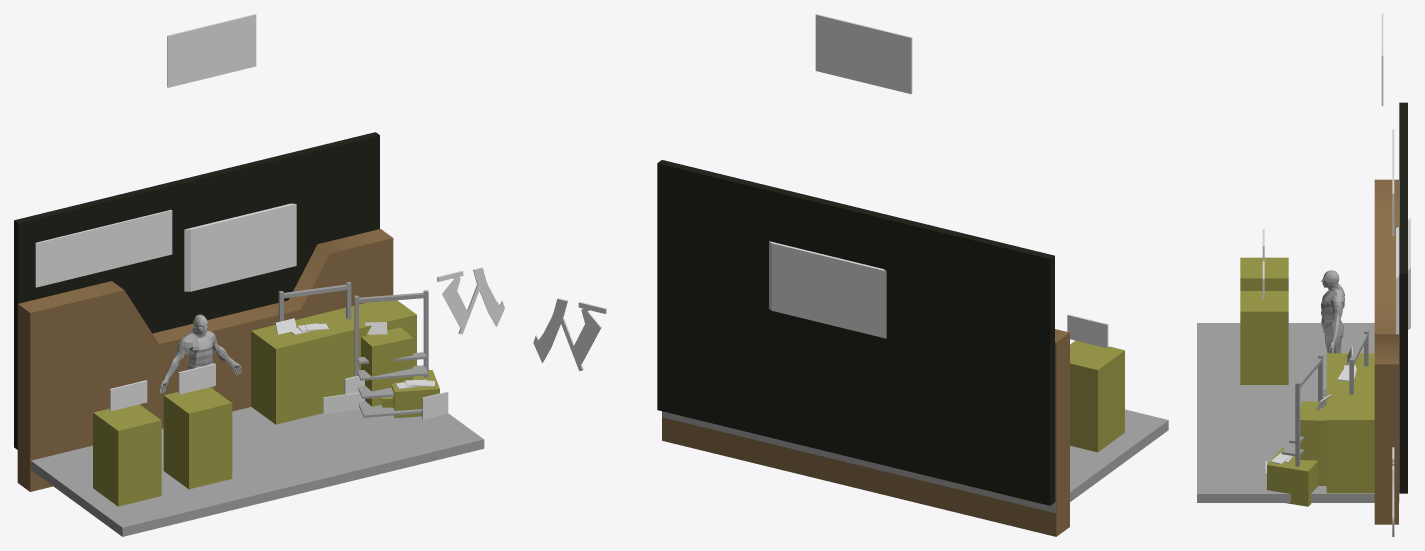
3 renders of one model, left to right at view 1: azimuth 30°, elevation 25°; view 2: azimuth 150°, elevation 25°; view 3: azimuth 270°, elevation 25°, orthographic. The views are drawn at different scales.
Parts seen in each view (by area): view 1: pCube16, pCube1, pCube2, pCube18, pCube5, pCube7, pCube31, pCube6, pCube4, pCube19, pCube17, Group46358 (+7 smaller); view 2: pCube1, pCube16, pCube5, pCube2, pCube4, pCube6, word, pCube3; view 3: pCube2, pCube16, pCube18, pCube7, pCube1, pCube25, pCube17, pCube6, Group46358, pCube19, pCube5, pCube15 (+3 smaller).
Boxes of the visible parts, <box> form: pCube16: <box>17,229,393,491</box>; pCube1: <box>14,132,379,449</box>; pCube2: <box>31,407,484,536</box>; pCube18: <box>251,300,416,424</box>; pCube5: <box>184,203,296,291</box>; pCube7: <box>163,387,232,489</box>; pCube31: <box>35,210,172,287</box>; pCube6: <box>93,404,161,506</box>; pCube4: <box>167,14,256,87</box>; pCube19: <box>354,290,428,417</box>; pCube17: <box>361,327,413,406</box>; Group46358: <box>159,314,242,393</box>; pCube1: <box>657,160,1054,505</box>; pCube16: <box>662,329,1069,536</box>; pCube5: <box>769,241,886,338</box>; pCube2: <box>662,409,1168,512</box>; pCube4: <box>815,14,912,94</box>; pCube6: <box>1070,340,1124,452</box>; word: <box>533,298,606,371</box>; pCube3: <box>1067,314,1108,348</box>; pCube2: <box>1197,323,1399,502</box>; pCube16: <box>1374,179,1398,524</box>; pCube18: <box>1326,353,1374,493</box>; pCube7: <box>1240,291,1288,384</box>; pCube1: <box>1399,102,1407,493</box>; pCube25: <box>1267,447,1318,506</box>; pCube17: <box>1300,401,1326,486</box>; pCube6: <box>1240,257,1288,290</box>; Group46358: <box>1321,270,1344,395</box>; pCube19: <box>1281,354,1323,466</box>; pCube5: <box>1396,218,1410,335</box>; pCube15: <box>1349,330,1368,394</box>.
Size of the model in its own units: 669 by 553 by 264.
